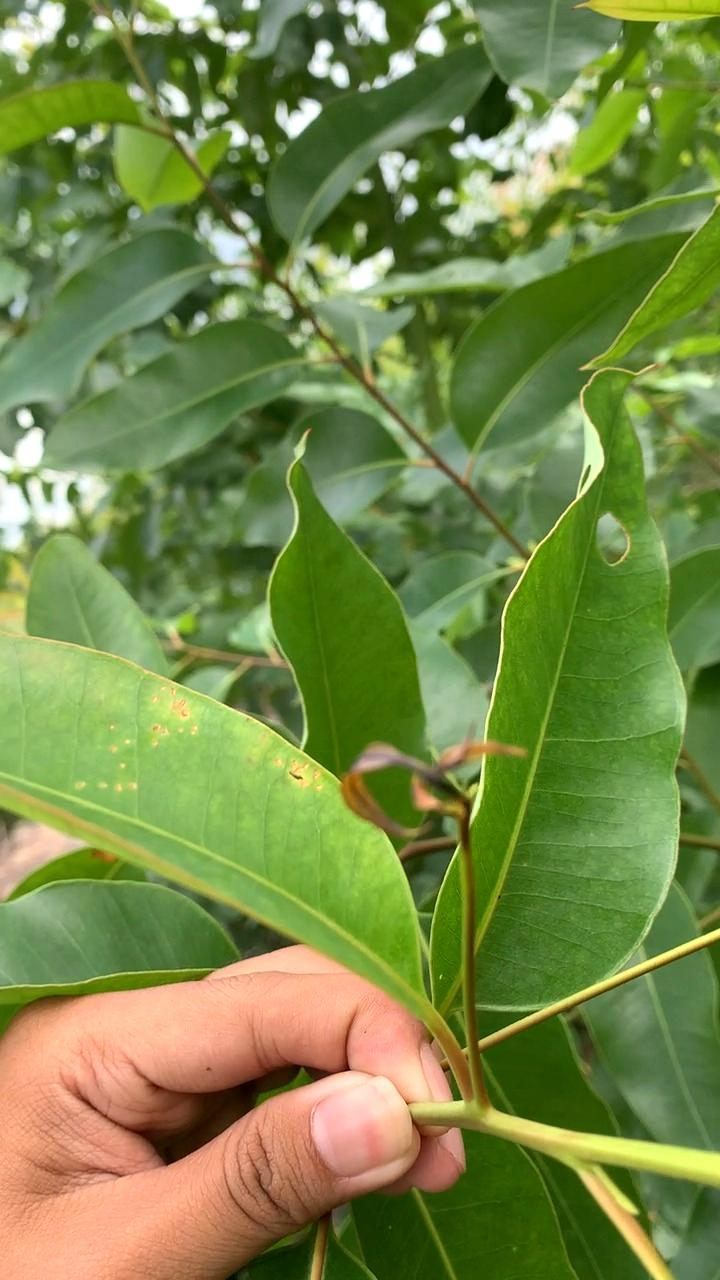Helopeltis-Withered Sprout: (336, 725, 537, 857)
